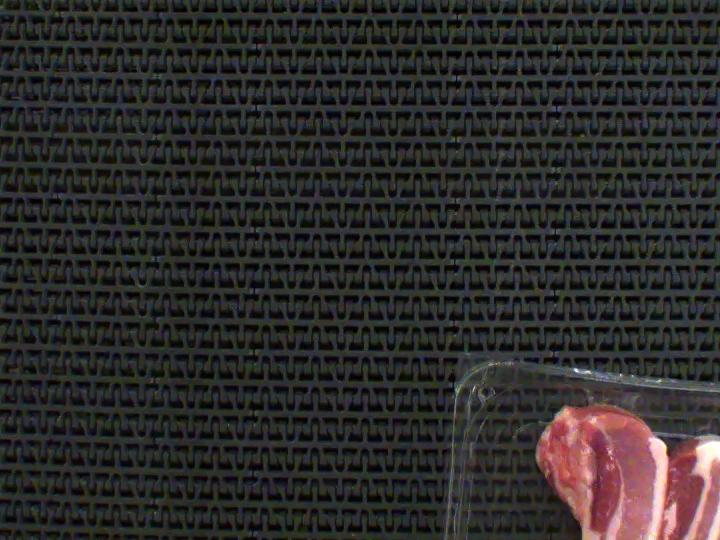packaging-error: (580, 386, 643, 416)
